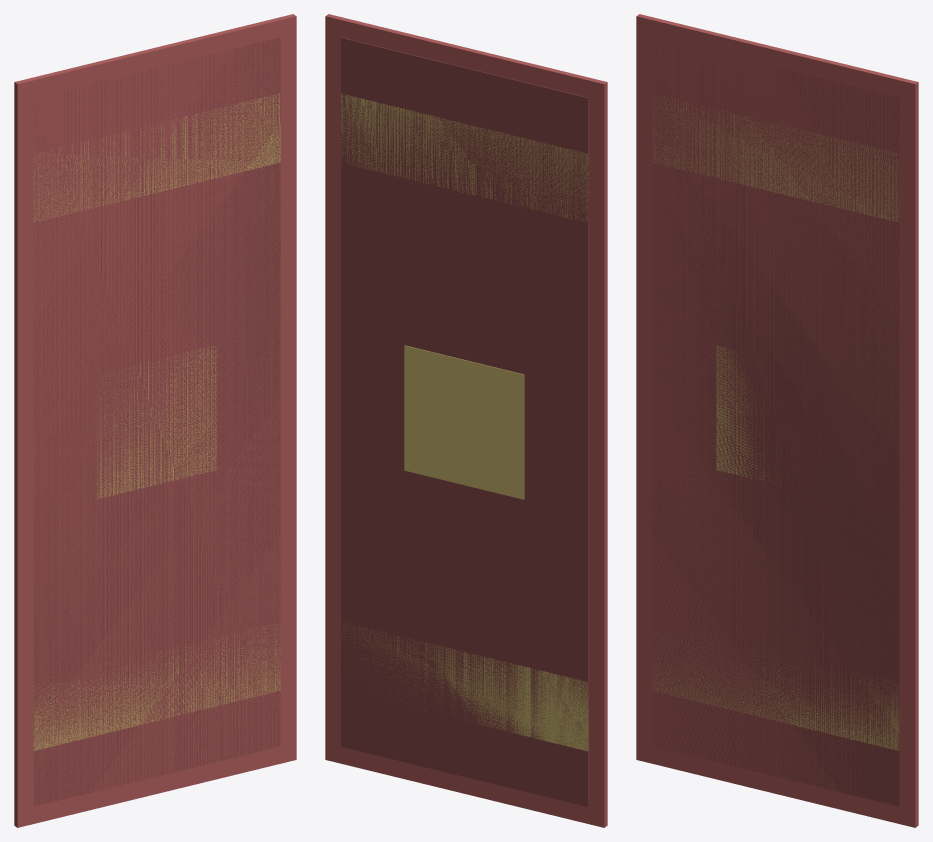
File: prop_carpet.glb
3 renders of one model, left to right at view 1: azimuth 30°, elevation 25°; view 2: azimuth 150°, elevation 25°; view 3: azimuth 330°, elevation 25°, orthographic.
Parts seen in each view (by area): view 1: prop_carpet; view 2: prop_carpet; view 3: prop_carpet.
Part boxes in pixels (x1,y1,x2,y2): prop_carpet: [14, 14, 296, 827]; prop_carpet: [325, 14, 607, 827]; prop_carpet: [636, 14, 918, 827].
Bounding box in the file's own units: 2.1 × 5.35 × 0.05.
